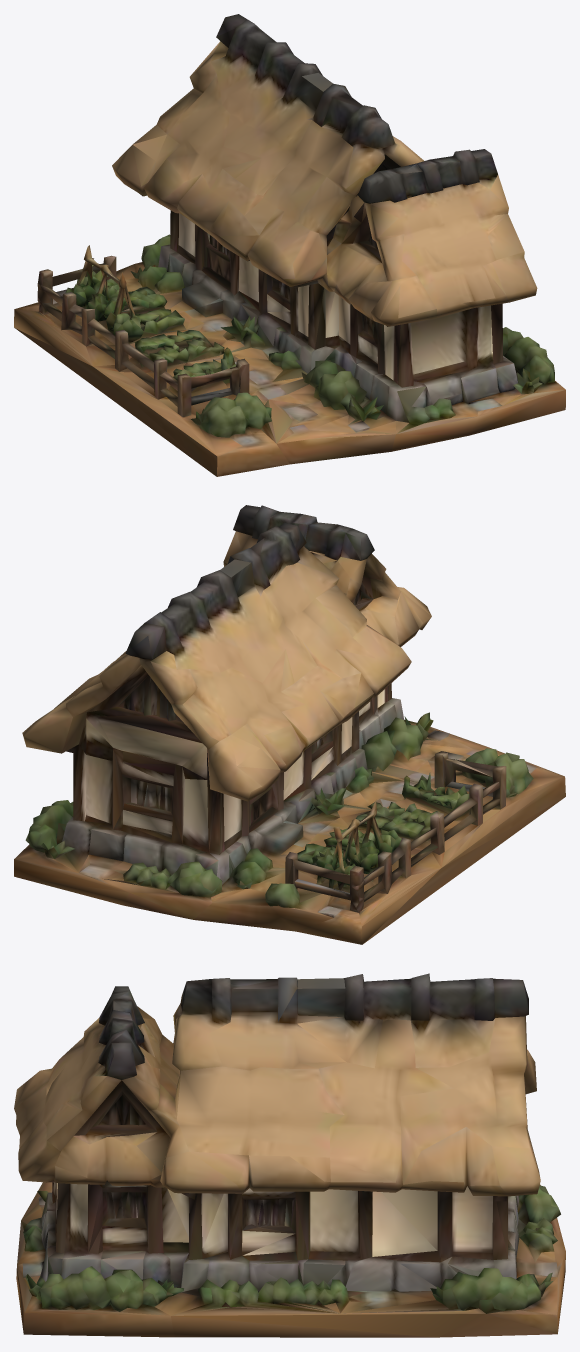
The model's file is house_t2.glb.
3 renders of one model, top to bottom at view 1: azimuth 30°, elevation 25°; view 2: azimuth 150°, elevation 25°; view 3: azimuth 270°, elevation 25°, orthographic. The views are drawn at different scales.
Parts seen in each view (by area): view 1: tripo_node_2c7d9c0a-5626-4857-a81c-c3f3d77db74f; view 2: tripo_node_2c7d9c0a-5626-4857-a81c-c3f3d77db74f; view 3: tripo_node_2c7d9c0a-5626-4857-a81c-c3f3d77db74f.
Part boxes in pixels (<box>): tripo_node_2c7d9c0a-5626-4857-a81c-c3f3d77db74f: <box>14,14,565,476</box>; tripo_node_2c7d9c0a-5626-4857-a81c-c3f3d77db74f: <box>14,505,565,944</box>; tripo_node_2c7d9c0a-5626-4857-a81c-c3f3d77db74f: <box>14,973,565,1337</box>.
Size of the model in its own units: 0.7859 by 0.5839 by 0.982.
1 material, 1 textured.
